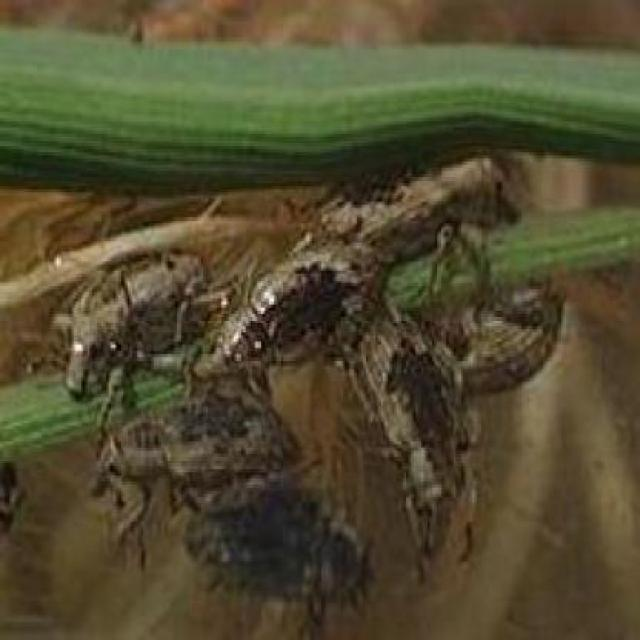rice-bug: (52, 150, 566, 600)
